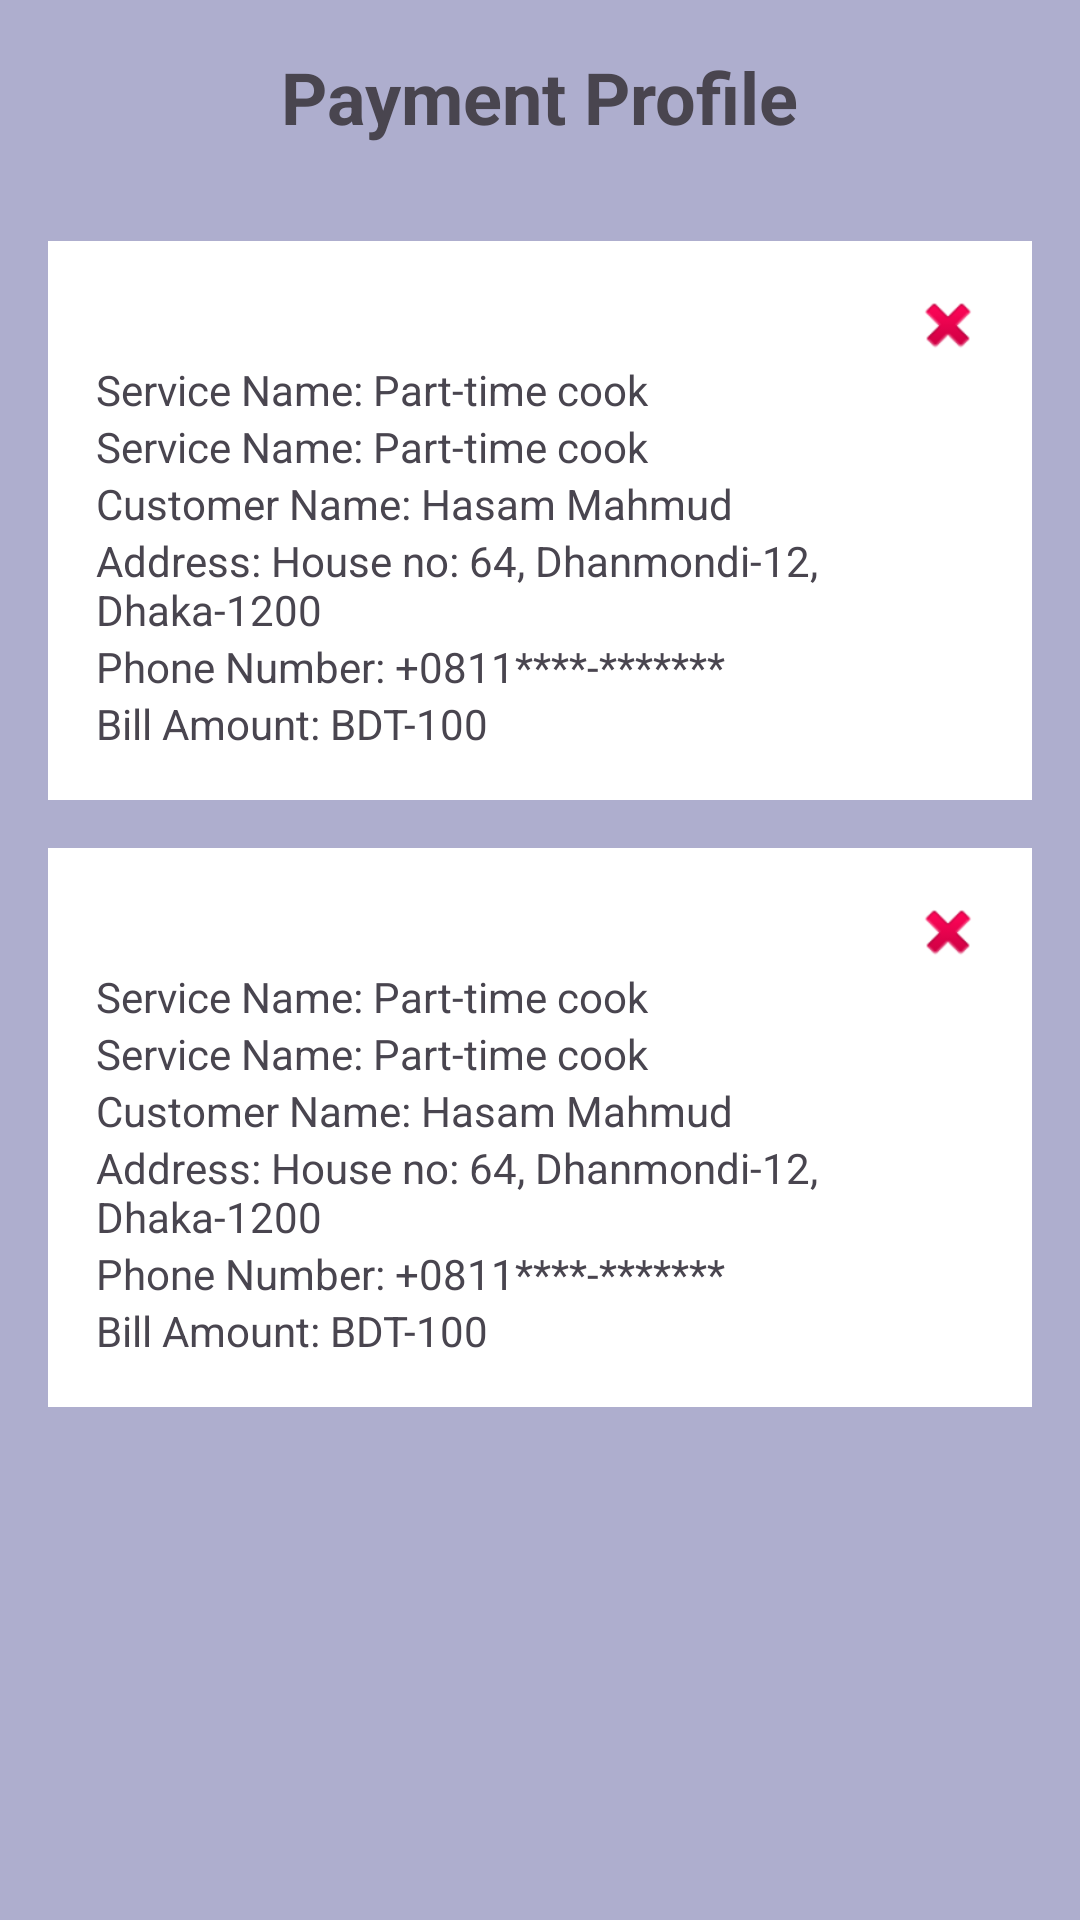

Icons on this 1080 × 1920 Android screen, each with the point to tap as (x,y):
delete: (948,325), (948,932)
